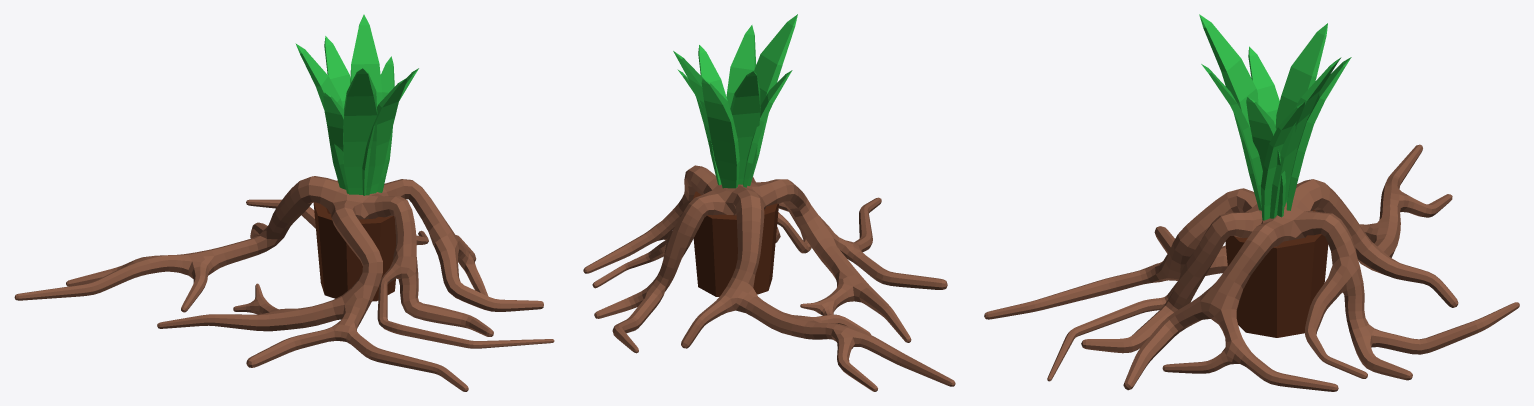
The model's file is OfficePlant.glb.
3 renders of one model, left to right at view 1: azimuth 30°, elevation 25°; view 2: azimuth 150°, elevation 25°; view 3: azimuth 270°, elevation 25°, orthographic. The views are drawn at different scales.
Parts seen in each view (by area): view 1: OfficePlant-col; view 2: OfficePlant-col; view 3: OfficePlant-col.
Part boxes in pixels (<box>): OfficePlant-col: <box>14,14,554,391</box>; OfficePlant-col: <box>583,14,955,391</box>; OfficePlant-col: <box>984,14,1519,391</box>.
Bounding box in the file's own units: 7.36 × 4.56 × 7.27.
Materials: 1 (1 with a texture image).
